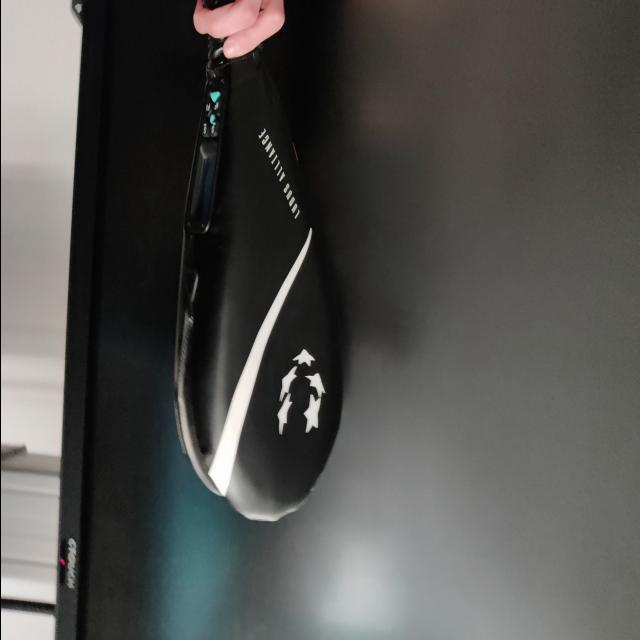paddle: (170, 52, 348, 526)
